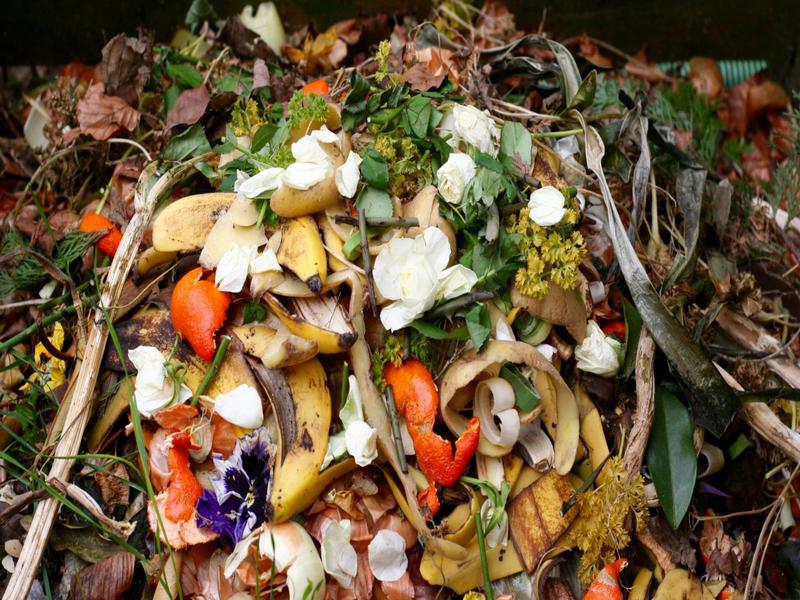vegetation: (28, 2, 749, 600)
